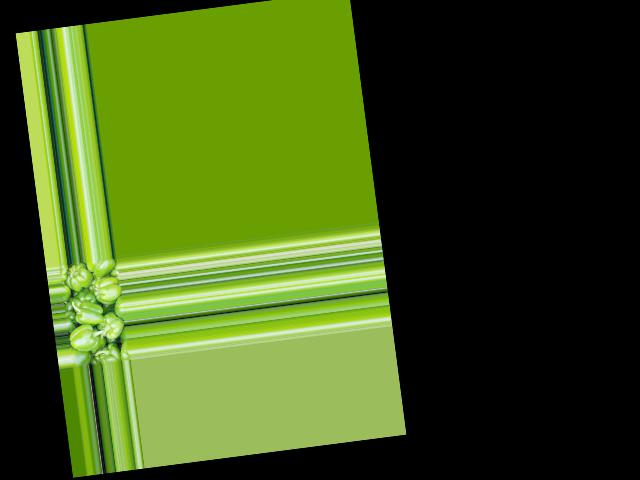bell_pepper: (69, 342, 91, 368)
